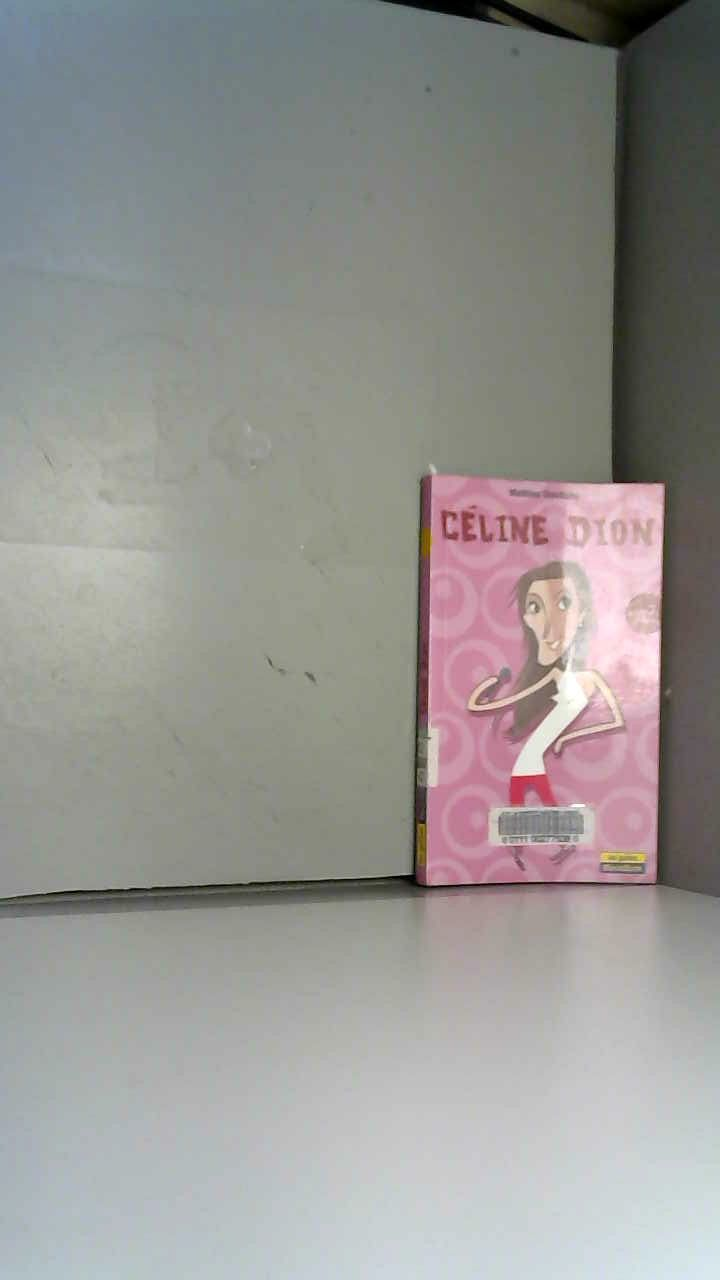book: (390, 440, 720, 938)
